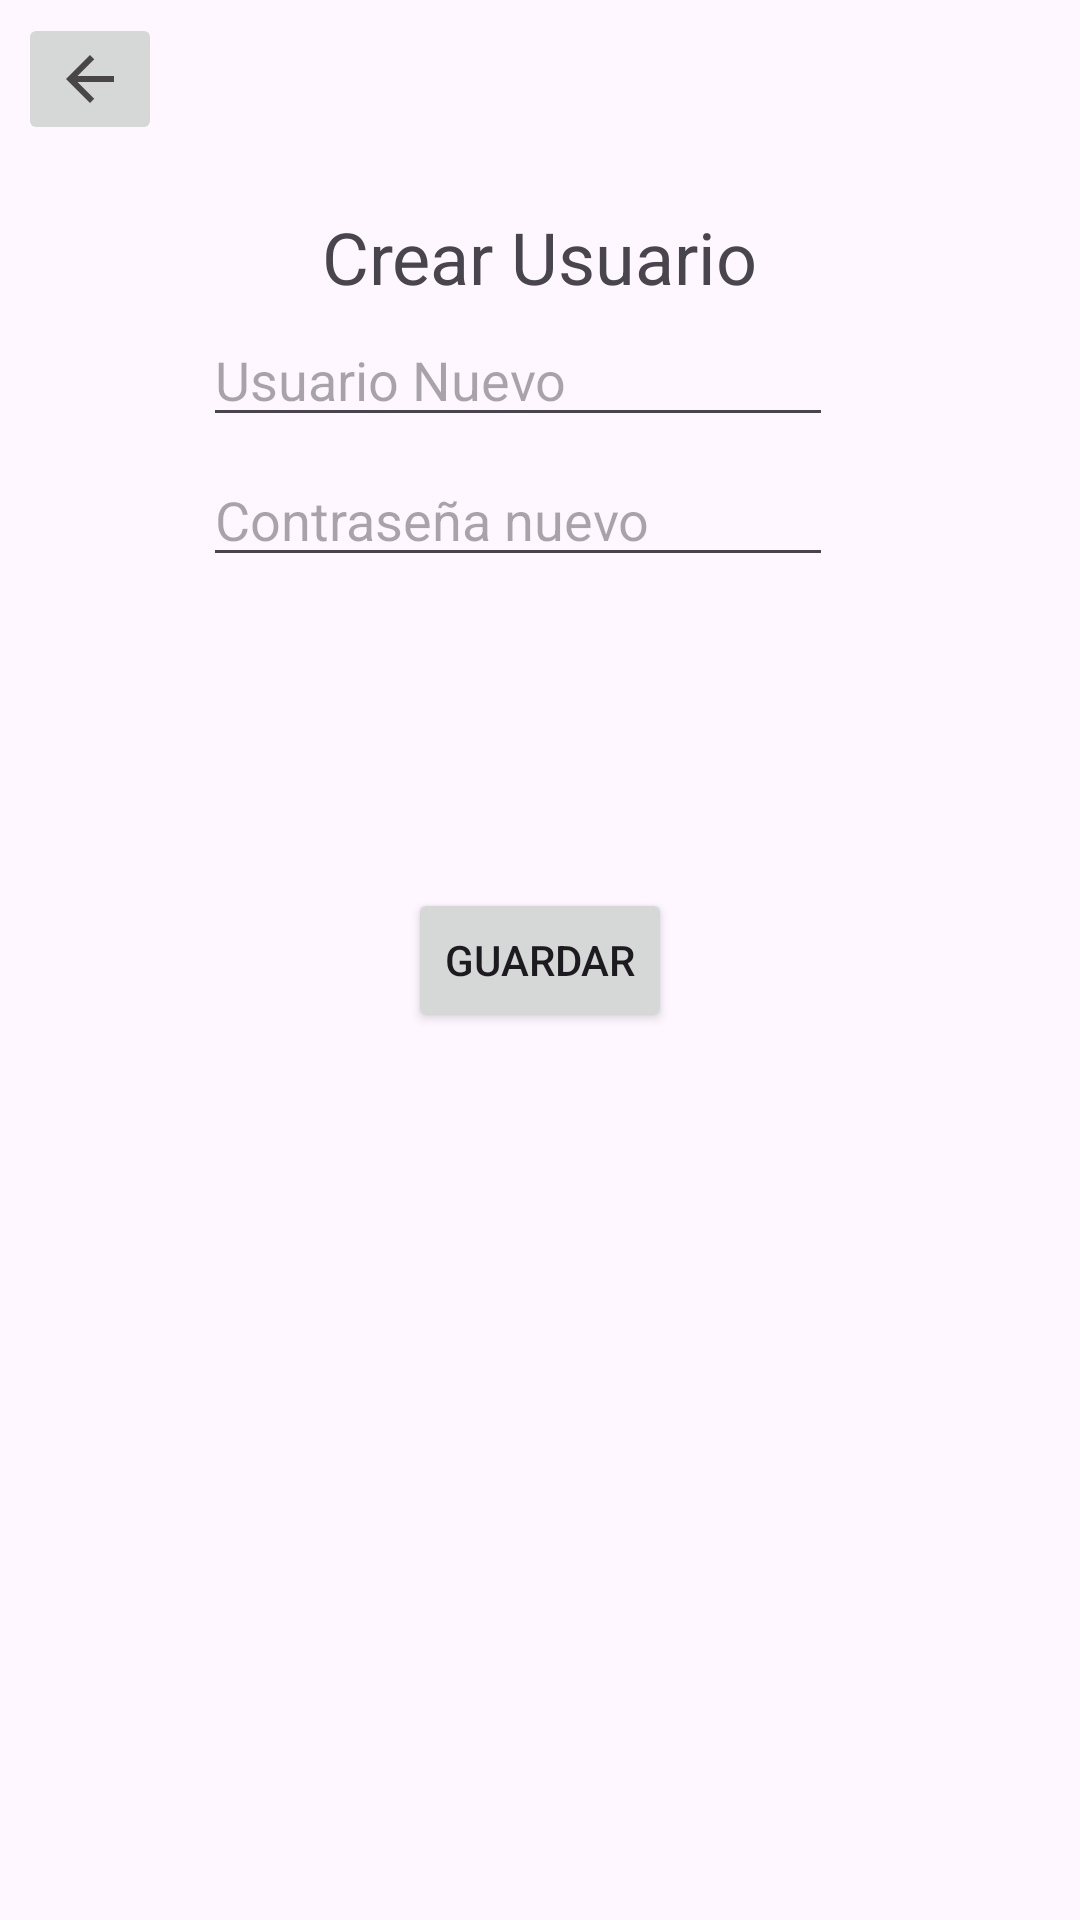

Icon bounding boxes for this 1080×1920 phone screenshot, format detection(x1, y1, x2, y2):
atras: detection(30, 31, 150, 127)
